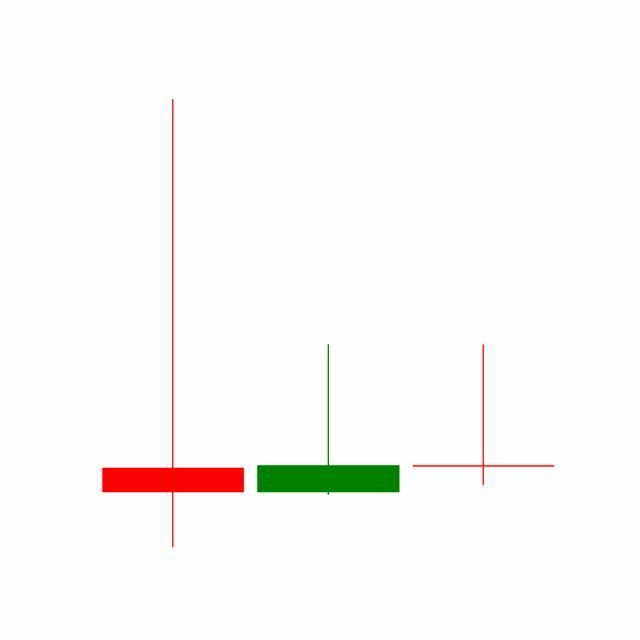Gravestone Doji: (406, 343, 562, 488)
